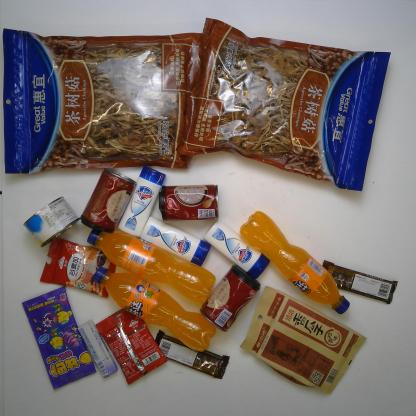Candy: (20, 285, 98, 392), (78, 318, 118, 378)
Canned Food: (199, 264, 262, 333), (80, 167, 137, 234), (22, 195, 80, 248), (158, 183, 219, 221)
Chocolate: (154, 328, 231, 381), (322, 260, 399, 306)
Dried Food: (175, 17, 392, 193), (2, 28, 204, 174), (240, 285, 366, 395)
Drink: (239, 210, 350, 315), (91, 264, 217, 353), (84, 226, 216, 304)
Instant Drink: (95, 306, 168, 387), (40, 237, 117, 298)
Personal Hygiene: (204, 220, 270, 279), (139, 215, 211, 267), (117, 165, 166, 238)
